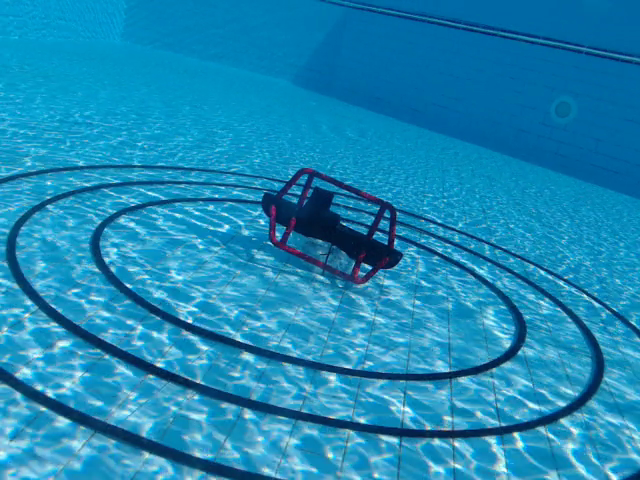submarine: (259, 166, 405, 285)
